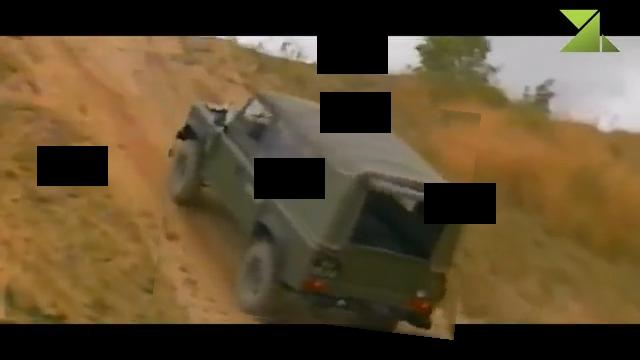MIL_HMMWV: (159, 86, 475, 332)
